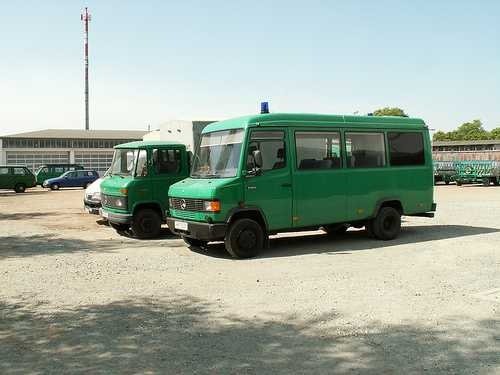Police Van: (160, 98, 446, 274), (72, 134, 198, 235)
